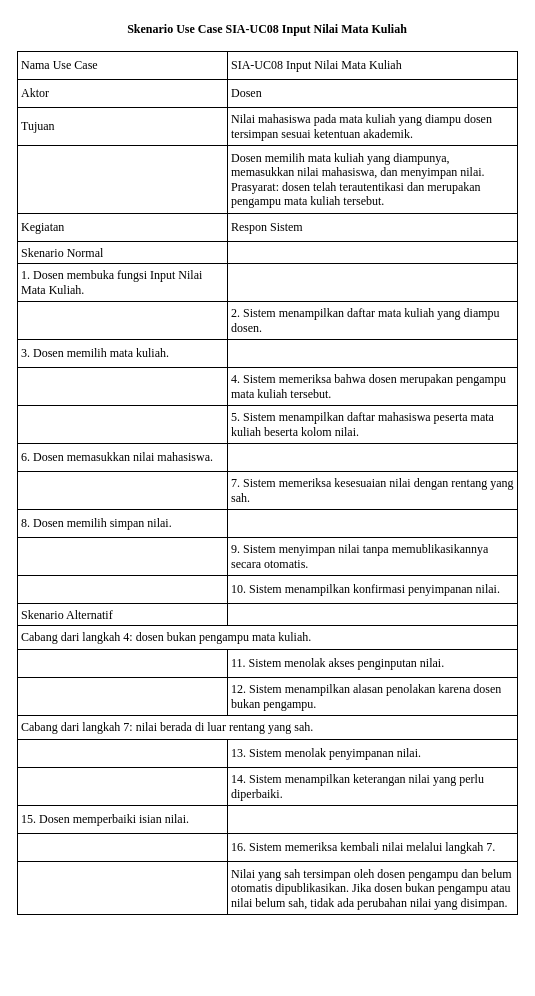
This 535x996 diagram has some shape labels left out. Here are the shapes that lost their labels. From the top down, the centre of each, then its label:
At pixel 122 179: "Deskripsi".
At pixel 122 887: "Skenario Akhir".
